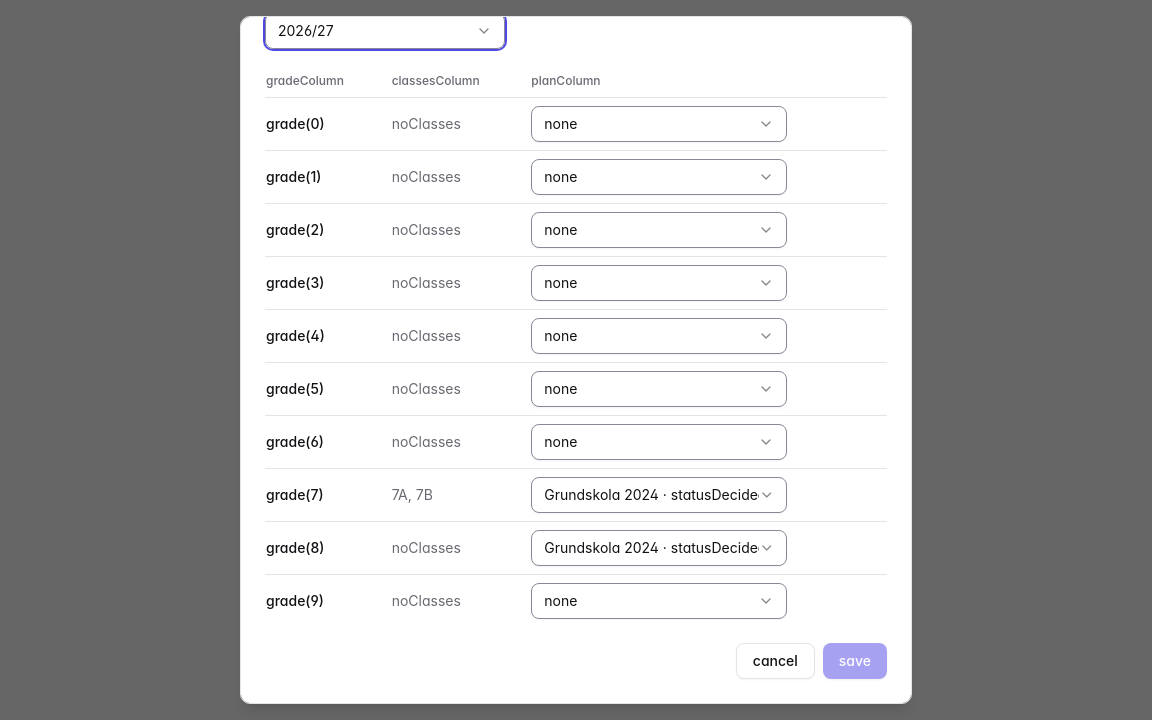
Test case: YearTimplansDialog › marks a draft as 'utkast — inte beslutad' beside the grade that follows it
(page scrolled)
Expected: the text "draft" is not shown
Click the dropdown labelled "none" in the row of "grade(9)" at (659, 601), box [531, 583, 787, 619]
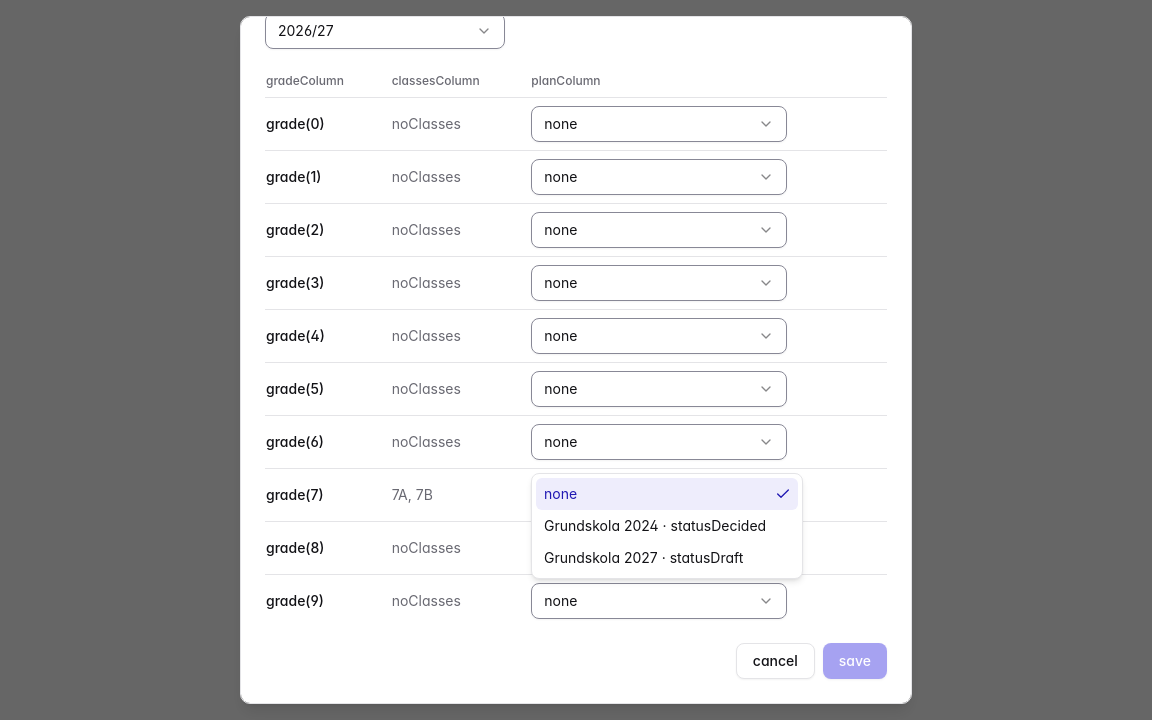
Click the option "Grundskola 2027 · statusDraft" at (644, 558), box [544, 549, 743, 566]
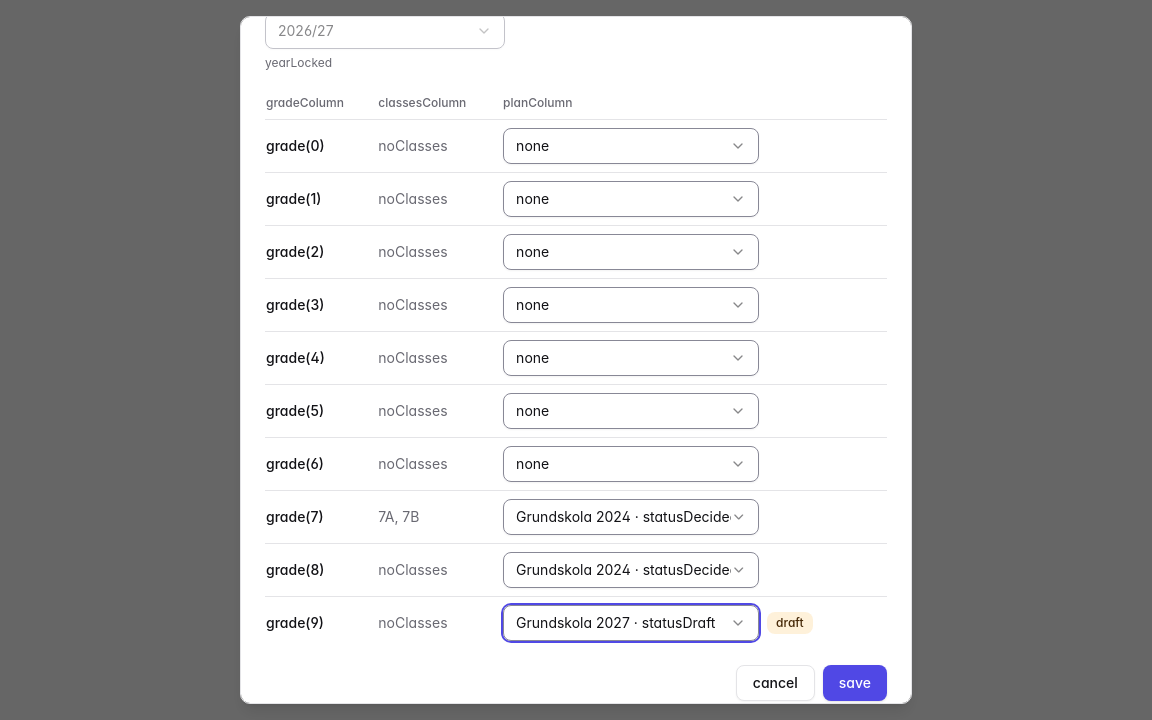
Result: the text "draft" is shown at [767, 612, 813, 634]
